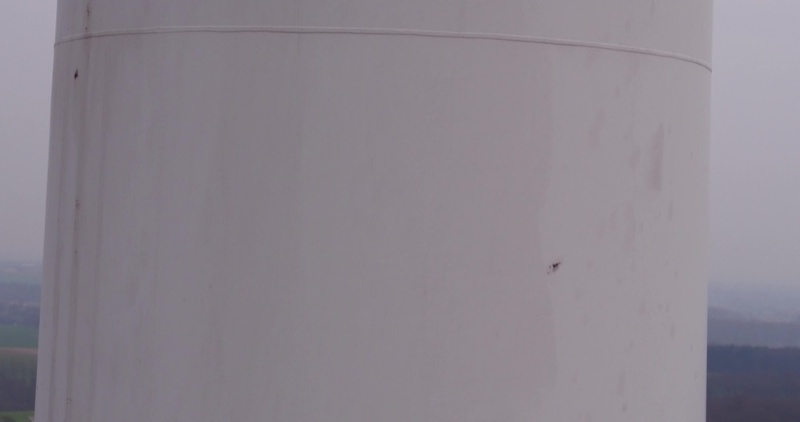weldseam: (51, 25, 715, 79)
